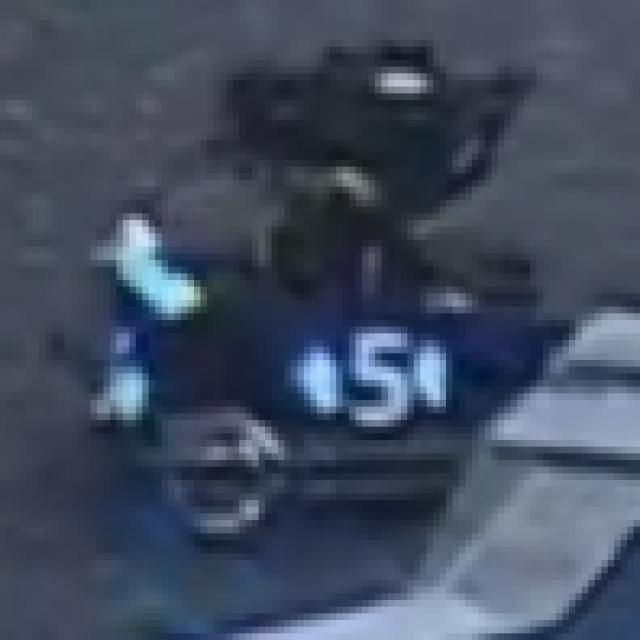B5: (297, 313, 472, 440)
